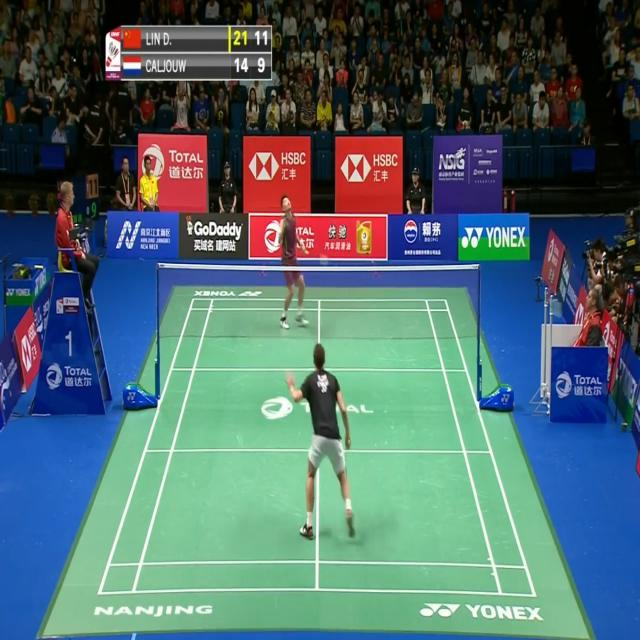Player1: (285, 341, 364, 544)
Player2: (277, 185, 315, 334)
